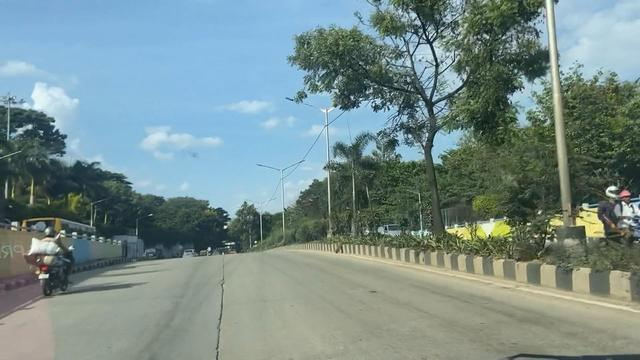LMV: (36, 225, 73, 297)
RoadDamages: (196, 303, 254, 356), (199, 256, 233, 298)
